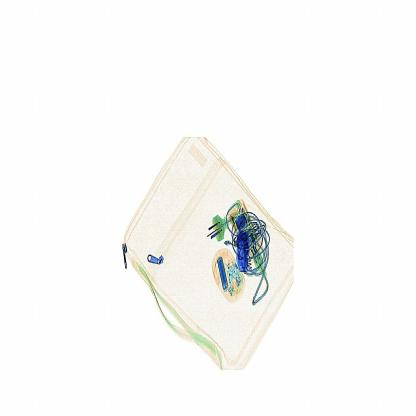scissors: (230, 223, 263, 285)
